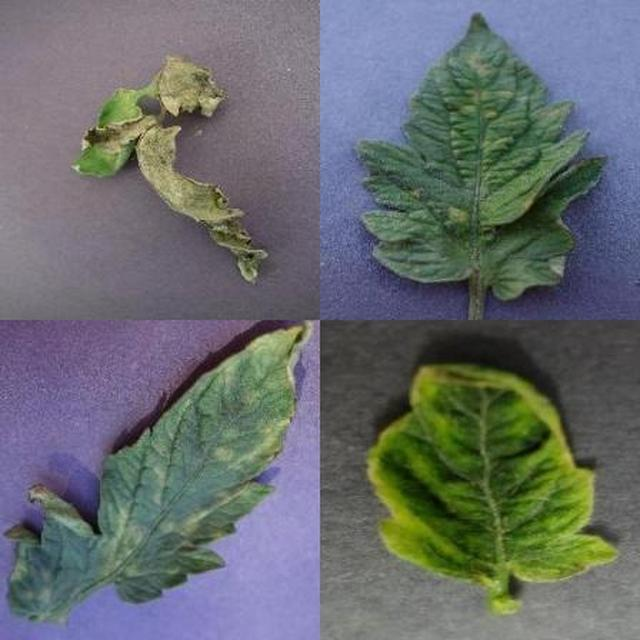Late Blight Leaf: (227, 223, 640, 640)
